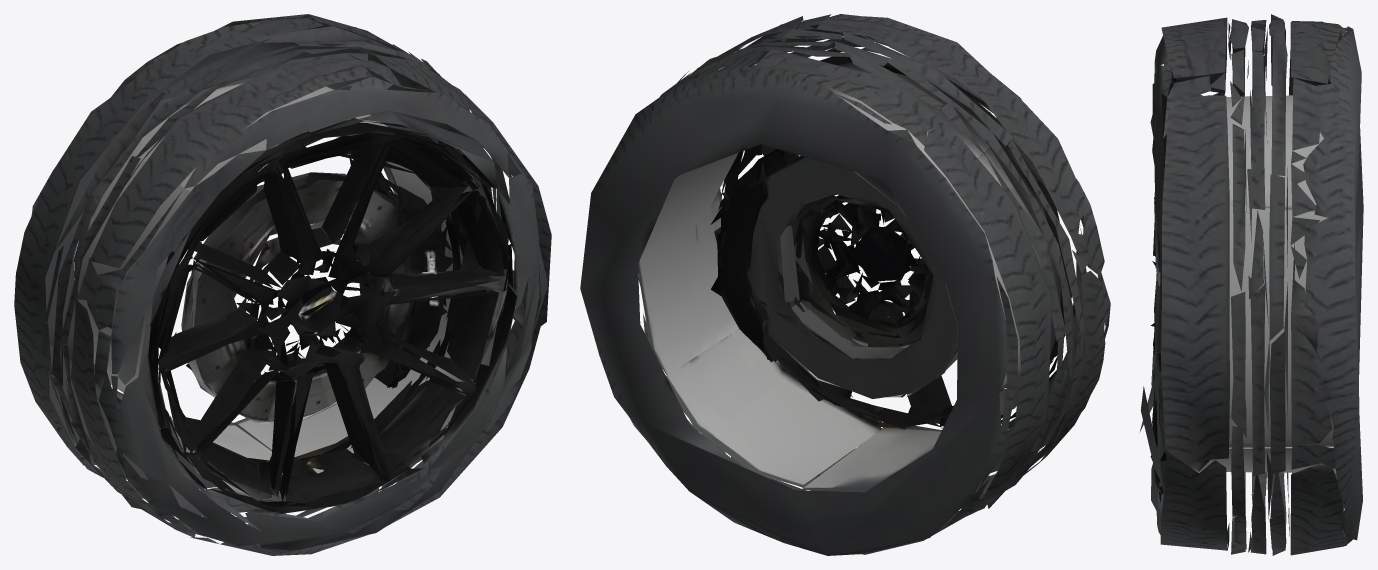
File: wheel.glb
The picture shows the model from 3 angles, left to right: view 1: azimuth 30°, elevation 25°; view 2: azimuth 150°, elevation 25°; view 3: azimuth 270°, elevation 25°; orthographic projection.
Visible parts, largest first — view 1: wheel; view 2: wheel; view 3: wheel.
Part boxes in pixels (x1=…): wheel: x1=14, y1=14, x2=551, y2=555; wheel: x1=580, y1=14, x2=1110, y2=555; wheel: x1=1139, y1=14, x2=1363, y2=555.
Size of the model in its own units: 1.17 by 1.18 by 0.4896.
Materials: 1 (1 with a texture image).
